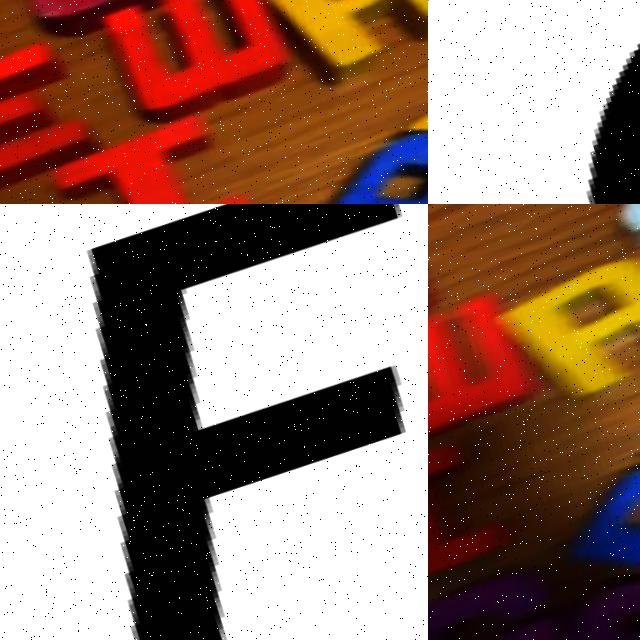9: (428, 0, 640, 204)
B: (551, 412, 640, 616), (314, 74, 428, 204)
E: (0, 24, 114, 204)
F: (0, 204, 428, 640)
G: (428, 546, 597, 640)
I: (39, 97, 279, 204)
R: (496, 234, 640, 412), (249, 0, 428, 95)
S: (560, 548, 640, 640)
W: (93, 0, 312, 132), (428, 281, 549, 457)
